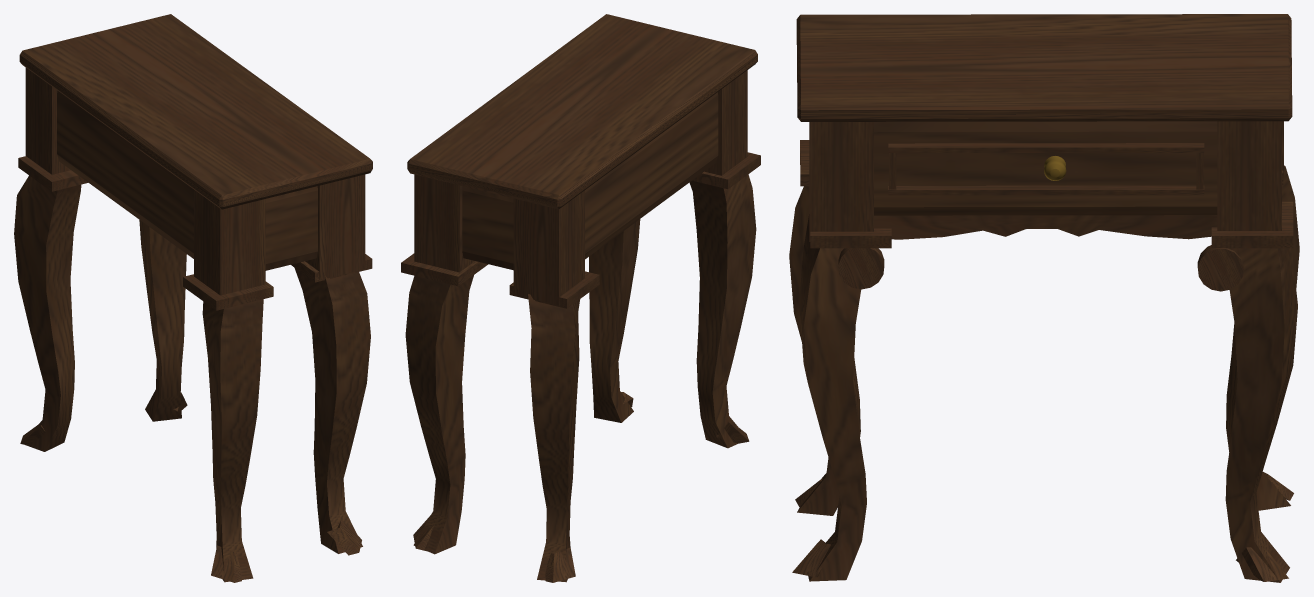
3 views of the same model, side by side, from view 1: azimuth 30°, elevation 25°; view 2: azimuth 150°, elevation 25°; view 3: azimuth 270°, elevation 25° (orthographic). The views are drawn at different scales.
Parts seen in each view (by area): view 1: pasted__pCube3, pasted__pCube6 (×2), pasted__pasted__pCube3, pasted__pasted__pCube6, pCube6, pasted__pasted__pCube4, pCube4, pasted__pCube4, pasted__pCube7, pasted__pasted__pCube7, pasted__pCube11, pasted__pCube8 (+1 smaller); view 2: pasted__pCube3, pasted__pCube6 (×2), pasted__pasted__pCube3, pCube6, pasted__pCube4, pasted__pasted__pCube6, pasted__pCube13, pasted__pasted__pCube4, pCube7, pasted__pCube7, pasted__pasted__pCube7, pasted__pasted__pCube8; view 3: pasted__pCube3, pasted__pasted__pCube3, pCube6, pasted__pasted__pCube6, pCube4, pasted__pCube13, pasted__pCube63, pasted__pCube6 (×2), pCube5, pasted__pCube5, pCube7, pasted__pCylinder49 (+4 smaller).
Part boxes in pixels (bbox=[...]): pasted__pCube3: bbox=[19, 14, 372, 209]; pasted__pCube6 (×2): bbox=[14, 175, 263, 582]; pasted__pasted__pCube3: bbox=[57, 90, 317, 270]; pasted__pasted__pCube6: bbox=[293, 263, 370, 553]; pCube6: bbox=[139, 220, 186, 421]; pasted__pasted__pCube4: bbox=[194, 190, 265, 295]; pCube4: bbox=[305, 174, 365, 280]; pasted__pCube4: bbox=[25, 67, 70, 174]; pasted__pCube7: bbox=[183, 274, 273, 310]; pasted__pasted__pCube7: bbox=[18, 156, 88, 191]; pasted__pCube11: bbox=[211, 545, 241, 582]; pasted__pCube8: bbox=[327, 520, 361, 555]; pasted__pCube3: bbox=[407, 14, 757, 209]; pasted__pCube6 (×2): bbox=[528, 174, 756, 582]; pasted__pasted__pCube3: bbox=[462, 92, 718, 270]; pCube6: bbox=[405, 275, 473, 554]; pasted__pCube4: bbox=[513, 190, 584, 305]; pasted__pasted__pCube6: bbox=[589, 219, 640, 422]; pasted__pCube13: bbox=[414, 174, 474, 272]; pasted__pasted__pCube4: bbox=[704, 70, 747, 175]; pCube7: bbox=[401, 253, 488, 286]; pasted__pCube7: bbox=[692, 152, 760, 189]; pasted__pasted__pCube7: bbox=[509, 271, 599, 308]; pasted__pasted__pCube8: bbox=[545, 547, 575, 582]; pasted__pCube3: bbox=[796, 14, 1292, 121]; pasted__pasted__pCube3: bbox=[874, 121, 1217, 215]; pCube6: bbox=[1225, 248, 1297, 582]; pasted__pasted__pCube6: bbox=[799, 214, 866, 581]; pCube4: bbox=[809, 122, 873, 241]; pasted__pCube13: bbox=[1217, 121, 1281, 230]; pasted__pCube63: bbox=[874, 215, 1217, 239]; pasted__pCube6 (×2): bbox=[789, 165, 1299, 515]; pCube5: bbox=[888, 185, 1204, 195]; pasted__pCube5: bbox=[888, 143, 1204, 152]; pCube7: bbox=[1211, 201, 1293, 248]; pasted__pCylinder49: bbox=[1197, 245, 1243, 291].
Size of the model in its own units: 0.0284 by 0.0619 by 0.0596.
Materials: 1 (1 with a texture image).
